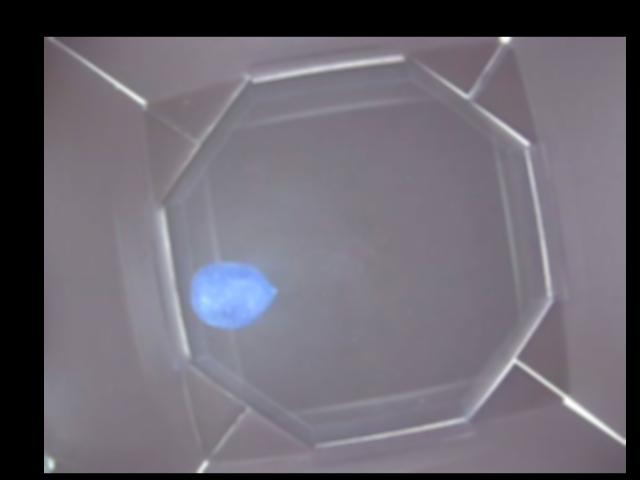Potato: (192, 255, 276, 328)
